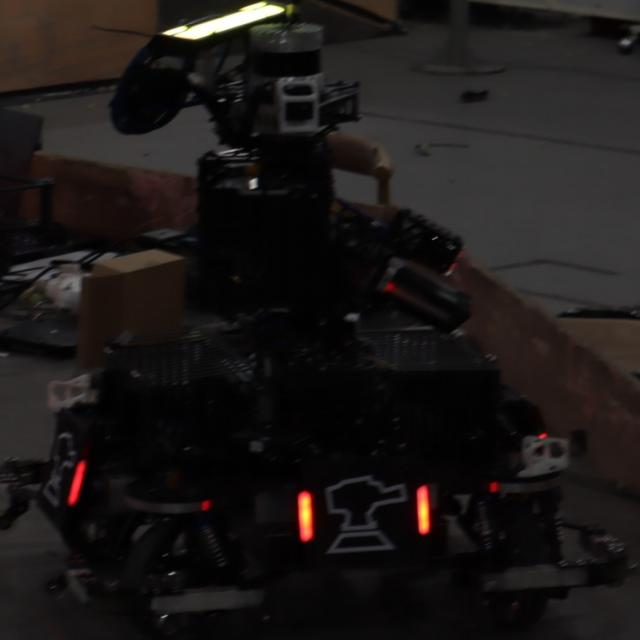Rs: (297, 459, 430, 563), (43, 424, 88, 512)
